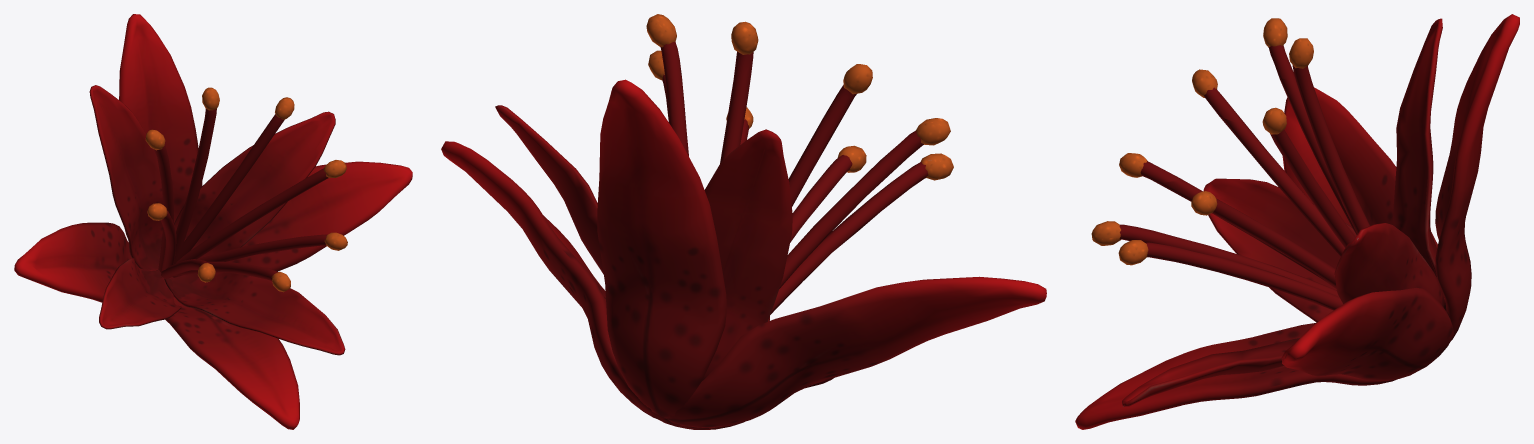
Rendered from LirioDeSangue.fbx.
The picture shows the model from 3 angles, left to right: view 1: azimuth 30°, elevation 25°; view 2: azimuth 150°, elevation 25°; view 3: azimuth 270°, elevation 25°; orthographic projection. The views are drawn at different scales.
Parts seen in each view (by area): view 1: Lirio Sangue - Low; view 2: Lirio Sangue - Low; view 3: Lirio Sangue - Low.
Part boxes in pixels (x1,y1,x2,y2): Lirio Sangue - Low: (14, 14, 412, 429); Lirio Sangue - Low: (441, 14, 1046, 429); Lirio Sangue - Low: (1075, 14, 1519, 429).
Bounding box in the file's own units: 181 × 130 × 127.
